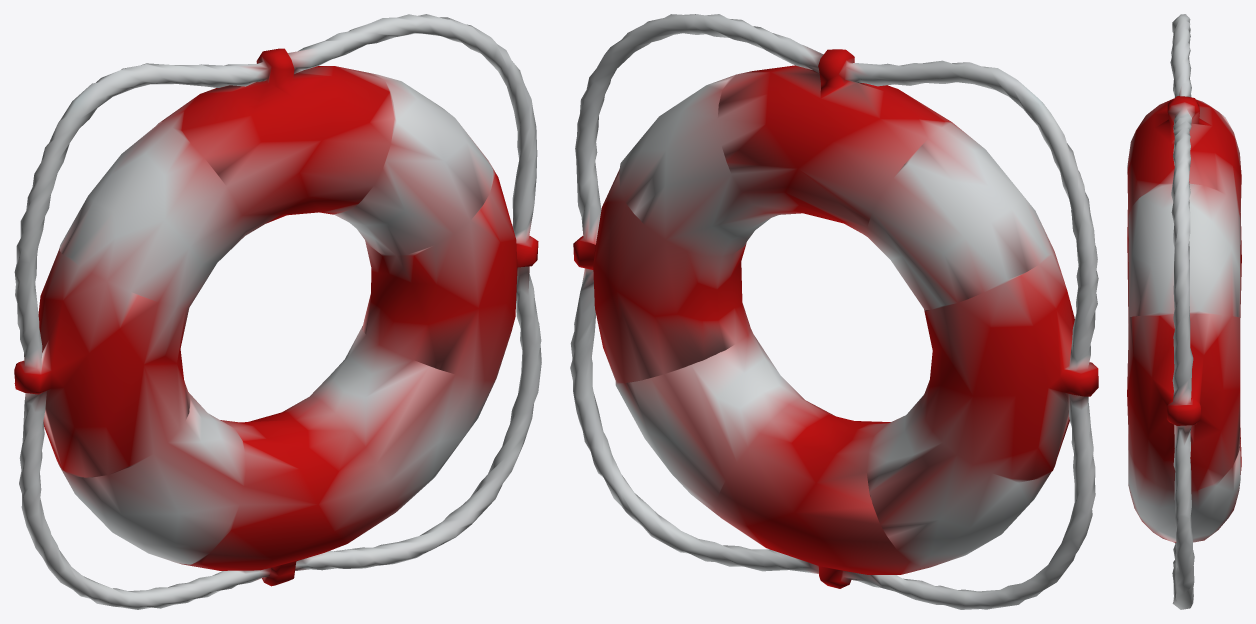
The model's file is meshy-lifering.glb.
3 views of the same model, side by side, from view 1: azimuth 30°, elevation 25°; view 2: azimuth 150°, elevation 25°; view 3: azimuth 270°, elevation 25° (orthographic). The views are drawn at different scales.
Visible parts, largest first — view 1: Mesh_0; view 2: Mesh_0; view 3: Mesh_0.
Boxes of the visible parts, x1=… form: Mesh_0: x1=14, y1=14, x2=541, y2=609; Mesh_0: x1=570, y1=14, x2=1098, y2=609; Mesh_0: x1=1127, y1=14, x2=1241, y2=609.
Bounding box in the file's own units: 1.85 × 1.9 × 0.424.
